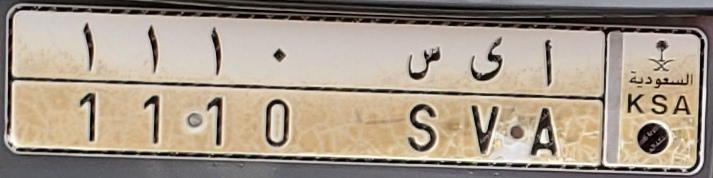0: (260, 45, 297, 149)
1: (199, 27, 231, 149), (76, 19, 105, 143), (140, 22, 165, 145)
A: (527, 39, 565, 158)
S: (405, 41, 446, 154)
V: (468, 37, 507, 156)
